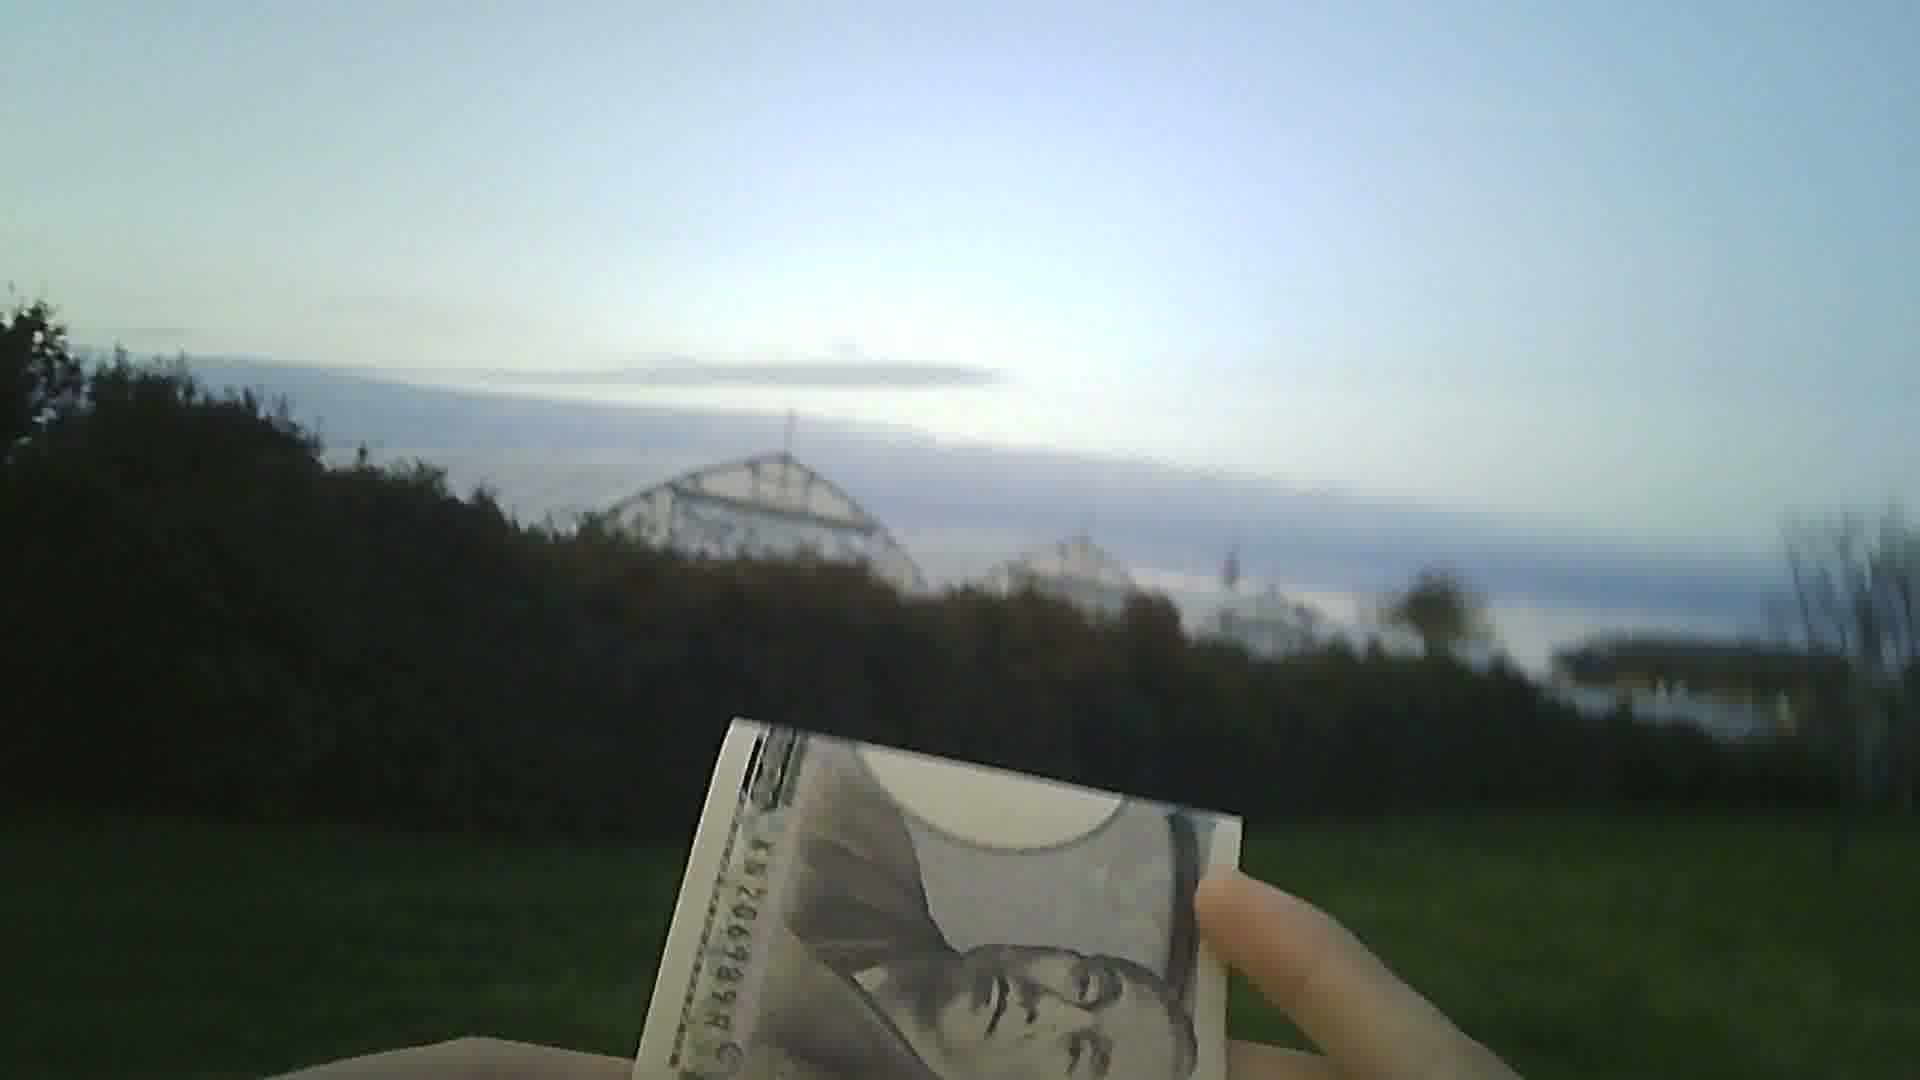10,000 Yen: (644, 703, 1232, 1079)
